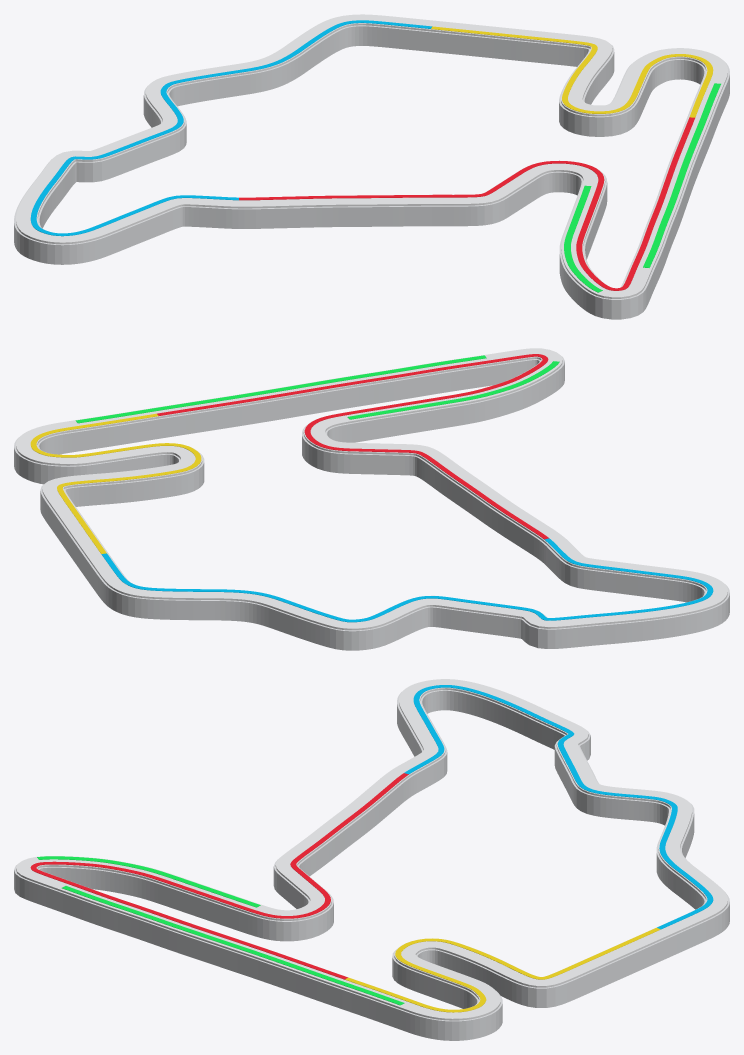
The model's file is HungaroringCircuit.glb.
3 renders of one model, top to bottom at view 1: azimuth 30°, elevation 25°; view 2: azimuth 150°, elevation 25°; view 3: azimuth 270°, elevation 25°, orthographic.
Parts seen in each view (by area): view 1: HungaroringOutline, HungaroringTrack, SectorStrip_1, SectorStrip_2, SectorStrip_3, DrsStrip_1, DrsStrip_2; view 2: HungaroringOutline, HungaroringTrack, SectorStrip_1, SectorStrip_2, SectorStrip_3, DrsStrip_1, DrsStrip_2; view 3: HungaroringOutline, HungaroringTrack, SectorStrip_1, SectorStrip_2, SectorStrip_3, DrsStrip_1, DrsStrip_2.
Boxes of the visible parts, left/top/right/bottom form: HungaroringOutline: left=14, top=25, right=729, bottom=319; HungaroringTrack: left=16, top=14, right=727, bottom=298; SectorStrip_1: left=239, top=117, right=694, bottom=290; SectorStrip_2: left=30, top=20, right=432, bottom=236; SectorStrip_3: left=431, top=26, right=713, bottom=117; DrsStrip_1: left=643, top=83, right=720, bottom=267; DrsStrip_2: left=564, top=185, right=602, bottom=292; HungaroringOutline: left=14, top=356, right=729, bottom=650; HungaroringTrack: left=16, top=348, right=727, bottom=630; SectorStrip_1: left=157, top=354, right=548, bottom=539; SectorStrip_2: left=101, top=538, right=713, bottom=622; SectorStrip_3: left=30, top=413, right=201, bottom=553; DrsStrip_1: left=75, top=355, right=486, bottom=423; DrsStrip_2: left=347, top=361, right=559, bottom=419; HungaroringOutline: left=14, top=690, right=729, bottom=1040; HungaroringTrack: left=16, top=679, right=727, bottom=1020; SectorStrip_1: left=30, top=773, right=408, bottom=979; SectorStrip_2: left=404, top=685, right=713, bottom=929; SectorStrip_3: left=345, top=927, right=660, bottom=1012; DrsStrip_1: left=62, top=886, right=404, bottom=1005; DrsStrip_2: left=37, top=856, right=260, bottom=907.
Size of the model in its own units: 16.52 by 0.497 by 14.64.
